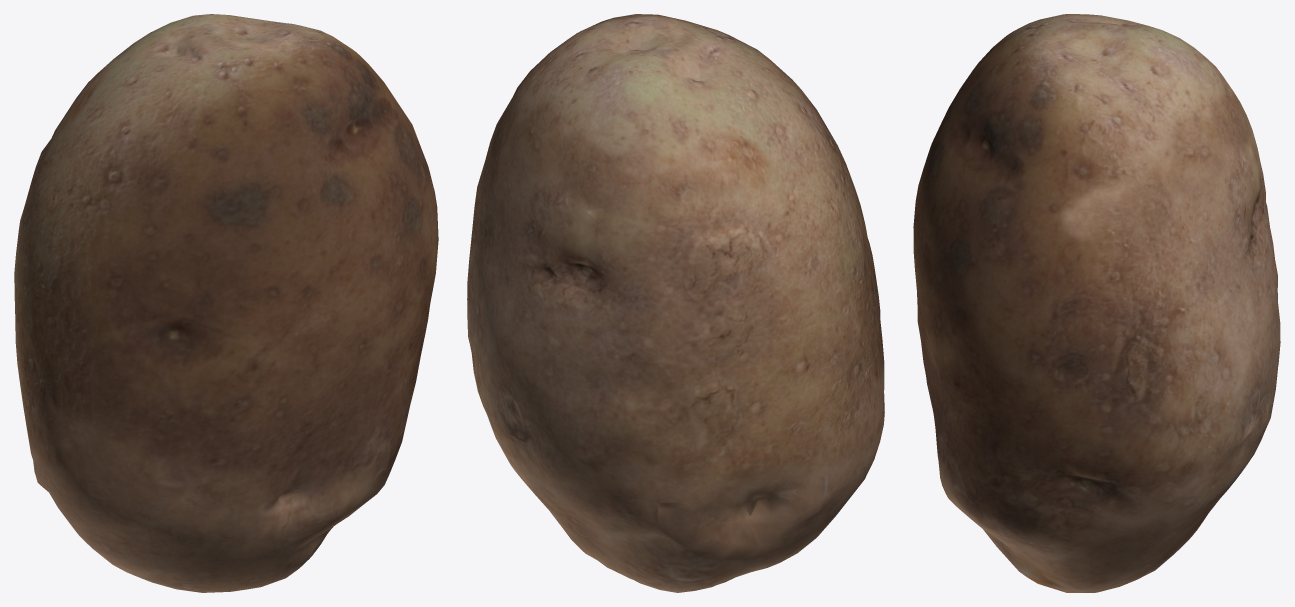
3 views of the same model, side by side, from view 1: azimuth 30°, elevation 25°; view 2: azimuth 150°, elevation 25°; view 3: azimuth 270°, elevation 25° (orthographic). The views are drawn at different scales.
Parts seen in each view (by area): view 1: potato_1; view 2: potato_1; view 3: potato_1.
Boxes of the visible parts, box(x1,y1,x2,y2) form: potato_1: box(14, 14, 438, 592); potato_1: box(467, 14, 884, 592); potato_1: box(913, 14, 1280, 592).
Bounding box in the file's own units: 0.0444 × 0.06 × 0.0366.
1 material, 1 textured.
